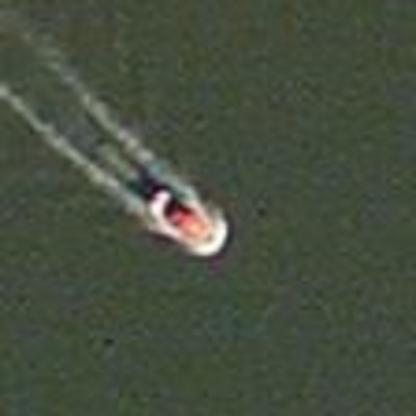ship: (113, 157, 245, 266)
